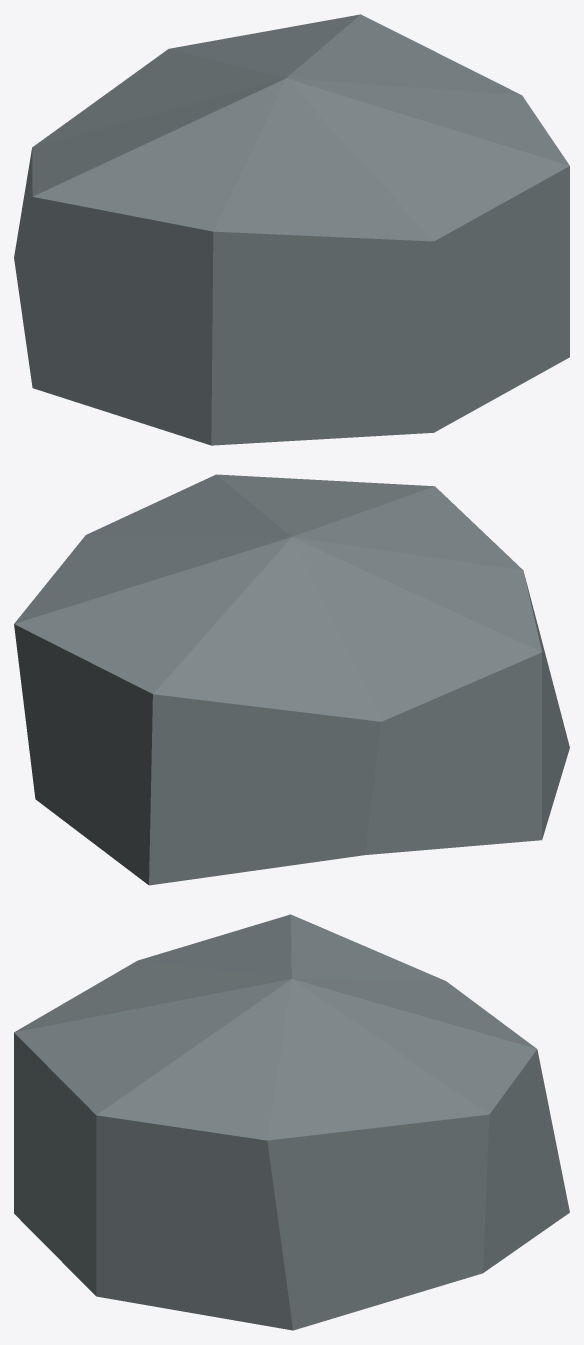
Rendered from Rock_06.fbx.
3 renders of one model, top to bottom at view 1: azimuth 30°, elevation 25°; view 2: azimuth 150°, elevation 25°; view 3: azimuth 270°, elevation 25°, orthographic. The views are drawn at different scales.
Parts seen in each view (by area): view 1: Rock_06; view 2: Rock_06; view 3: Rock_06.
Boxes of the visible parts, box(x1,y1,x2,y2) form: Rock_06: box(14, 14, 569, 445); Rock_06: box(14, 474, 569, 885); Rock_06: box(14, 914, 569, 1330).
Size of the model in its own units: 0.6309 by 0.3328 by 0.6309.
